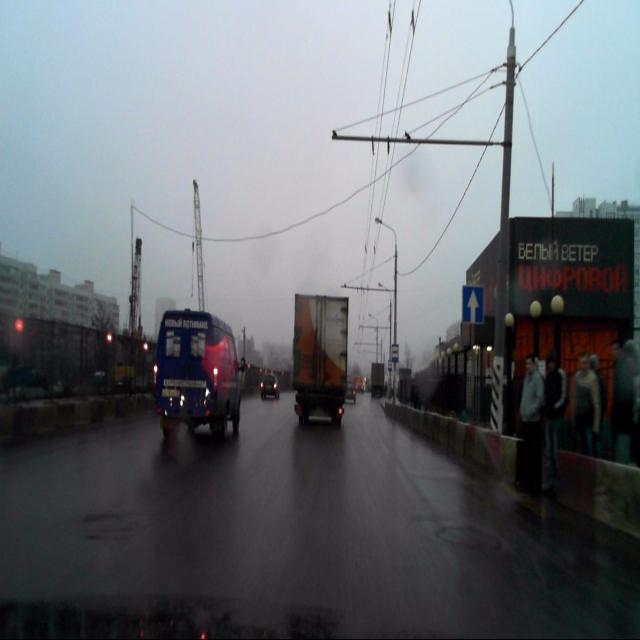road sign: (462, 285, 483, 323)
